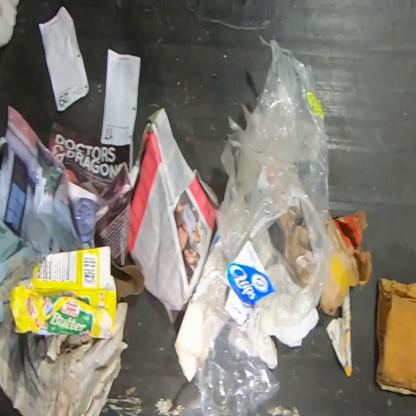cardboard: (9, 245, 117, 341), (375, 277, 415, 396)
soft_plastic: (185, 39, 347, 415)
